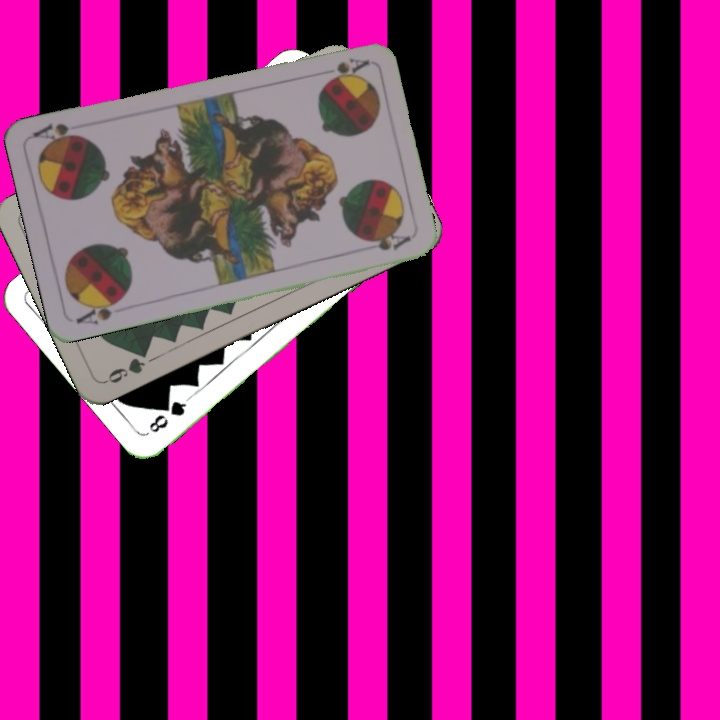G8: (144, 393, 192, 436)
G9: (100, 345, 151, 386)
SA: (72, 293, 127, 327), (325, 53, 370, 81)
